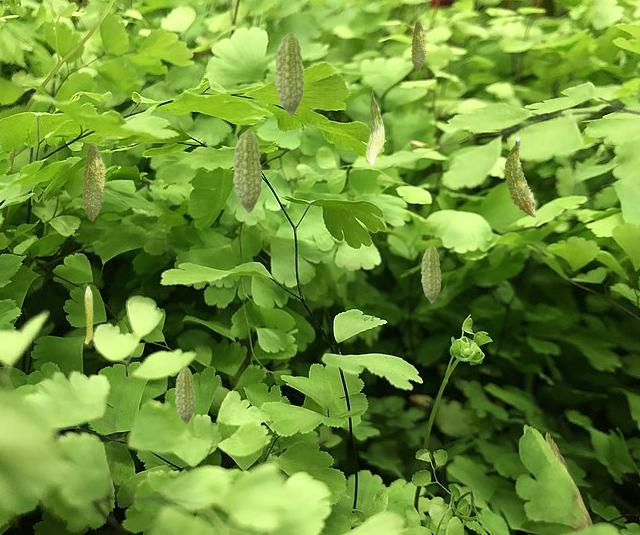ampalaya: (503, 136, 536, 217), (274, 31, 304, 116), (232, 128, 262, 213), (81, 142, 106, 221), (365, 90, 385, 166), (420, 245, 441, 303), (174, 366, 195, 424), (410, 20, 427, 72), (84, 285, 93, 344)
